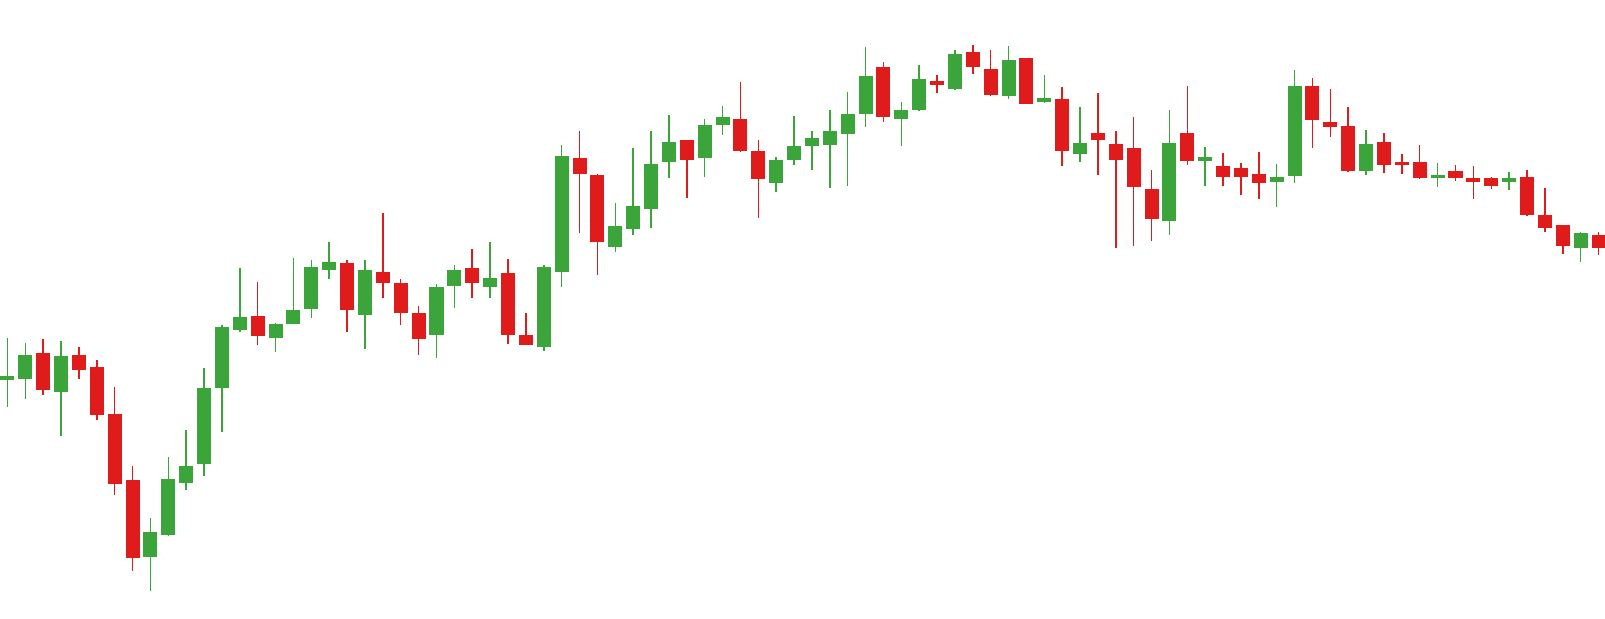sell: (1179, 67, 1324, 177), (729, 44, 893, 141)
